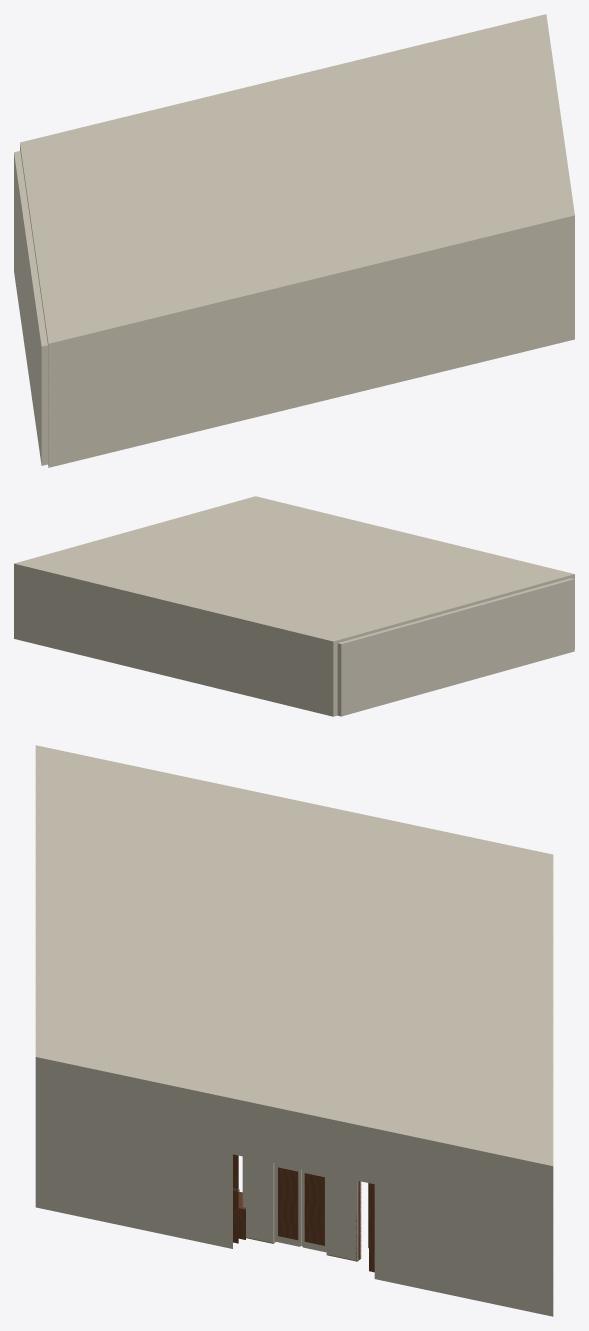
The picture shows the model from 3 angles, top to bottom: view 1: azimuth 30°, elevation 25°; view 2: azimuth 150°, elevation 25°; view 3: azimuth 270°, elevation 25°; orthographic projection. The views are drawn at different scales.
Parts seen in each view (by area): view 1: PremiumPressureClosure, AftPartyWall, HeldFrontageOpaqueEnclosure, InnerAftPartyReturn; view 2: PremiumPressureClosure, ForePartyWall, HeldFrontageOpaqueEnclosure; view 3: PremiumPressureClosure, InnerAftPartyReturn, InnerForePartyReturn, ArrivalHeader, PrivateEntry_01_ENTRY_PocketSkin_-1_1, PrivateEntry_01_ENTRY_PocketSkin_1_1, PrivateEntry_01_ENTRY_TimberInset_LEFT_1, PrivateEntry_01_ENTRY_TimberInset_RIGHT_1, AftPartyWall, PrivateEntry_01_ENTRY_MovingPanel_RIGHT.
Part boxes in pixels (left/top/right/bottom): PremiumPressureClosure: left=20, top=14, right=574, bottom=348; AftPartyWall: left=48, top=220, right=574, bottom=467; HeldFrontageOpaqueEnclosure: left=14, top=151, right=47, bottom=465; InnerAftPartyReturn: left=568, top=220, right=574, bottom=340; PremiumPressureClosure: left=14, top=496, right=574, bottom=644; ForePartyWall: left=14, top=567, right=337, bottom=716; HeldFrontageOpaqueEnclosure: left=337, top=578, right=574, bottom=716; PremiumPressureClosure: left=35, top=745, right=553, bottom=1171; InnerAftPartyReturn: left=35, top=1064, right=232, bottom=1248; InnerForePartyReturn: left=374, top=1134, right=553, bottom=1316; ArrivalHeader: left=233, top=1104, right=374, bottom=1184; PrivateEntry_01_ENTRY_PocketSkin_-1_1: left=326, top=1174, right=358, bottom=1260; PrivateEntry_01_ENTRY_PocketSkin_1_1: left=242, top=1156, right=274, bottom=1242; PrivateEntry_01_ENTRY_TimberInset_LEFT_1: left=304, top=1173, right=324, bottom=1245; PrivateEntry_01_ENTRY_TimberInset_RIGHT_1: left=278, top=1167, right=298, bottom=1240; AftPartyWall: left=35, top=1062, right=44, bottom=1208; PrivateEntry_01_ENTRY_MovingPanel_RIGHT: left=275, top=1163, right=301, bottom=1246.
Bounding box in the file's own units: 26.82 × 4.45 × 13.88.
158 materials, 152 textured.
